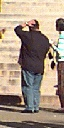person: (10, 10, 49, 109)
